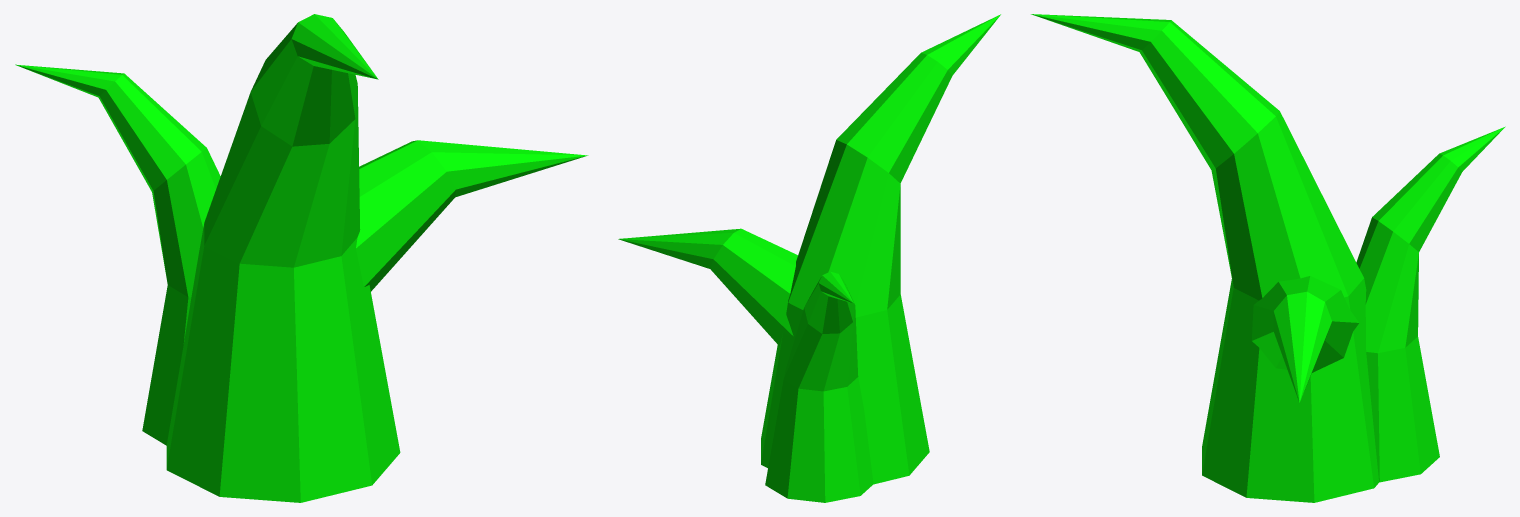
The model's file is trawa.fbx.
3 views of the same model, side by side, from view 1: azimuth 30°, elevation 25°; view 2: azimuth 150°, elevation 25°; view 3: azimuth 270°, elevation 25° (orthographic). The views are drawn at different scales.
Parts seen in each view (by area): view 1: trawa; view 2: trawa; view 3: trawa.
Part boxes in pixels (<box>): trawa: <box>15,14,588,502</box>; trawa: <box>618,14,1000,502</box>; trawa: <box>1031,14,1505,502</box>.
Bounding box in the file's own units: 7.23 × 7.73 × 7.89.
